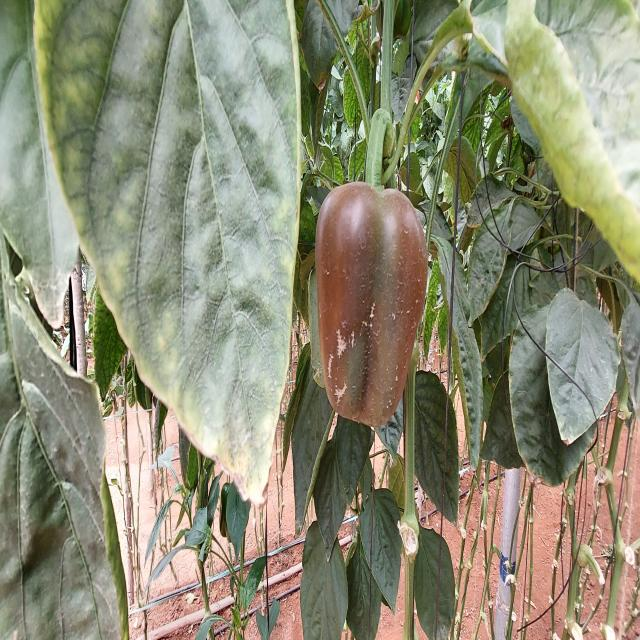BrownishRed--Can-be-Harvested: (315, 176, 423, 439)
